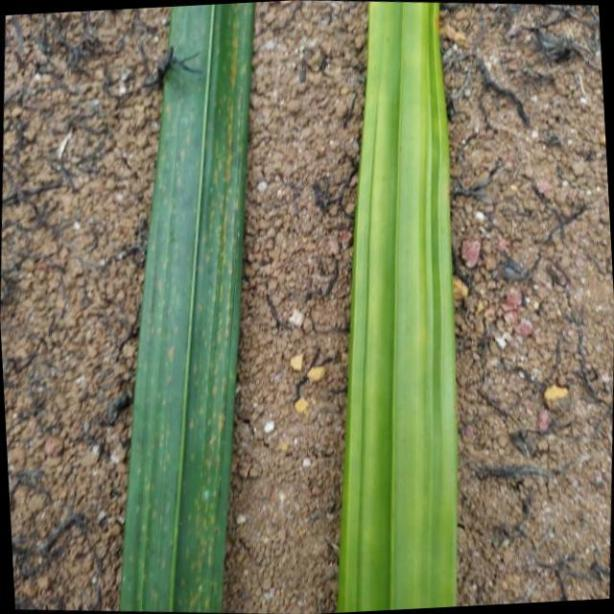nitrogen: (120, 0, 254, 614), (339, 0, 457, 614)
